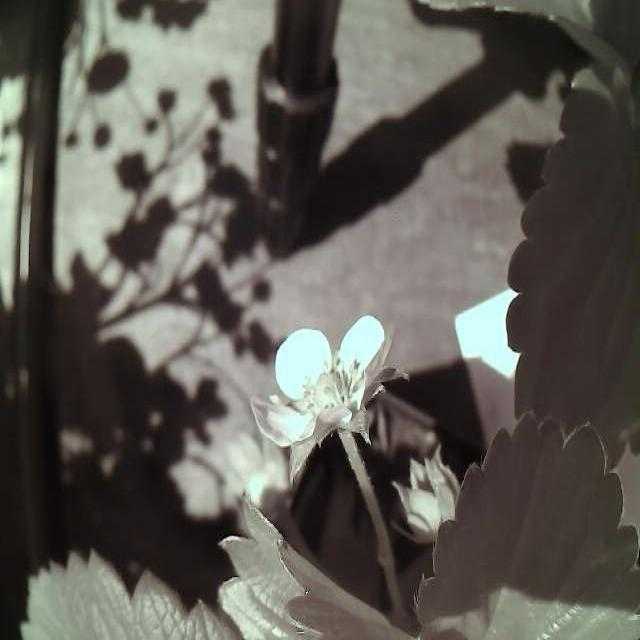flower: (238, 316, 411, 456)
